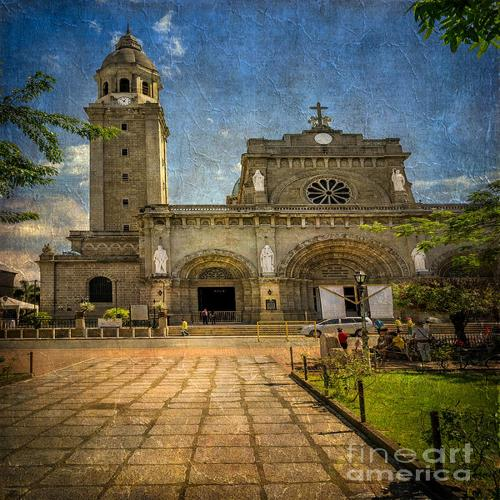Manila Cathedral Church: (18, 12, 493, 347)
